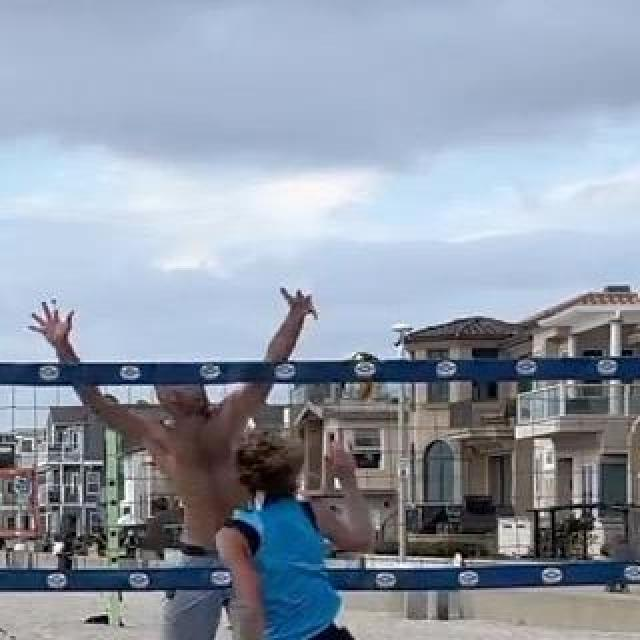volleyball: (339, 351, 385, 401)
